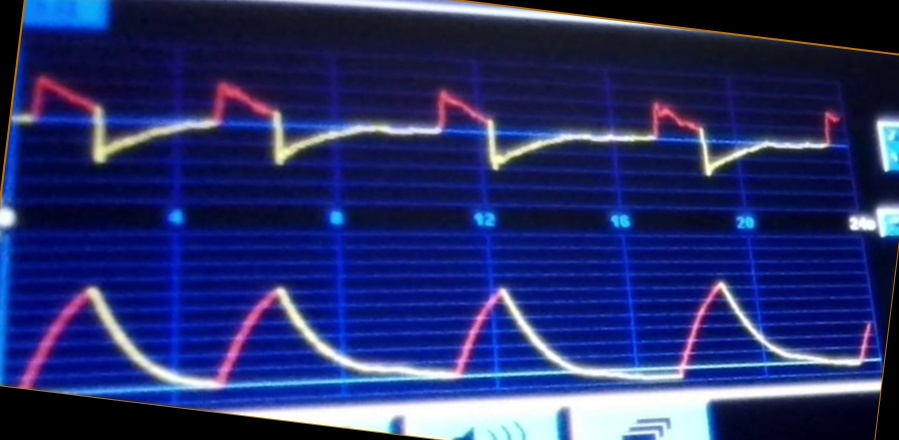Accumulation Flow: (17, 62, 843, 184)
Volume: (18, 272, 872, 393)
